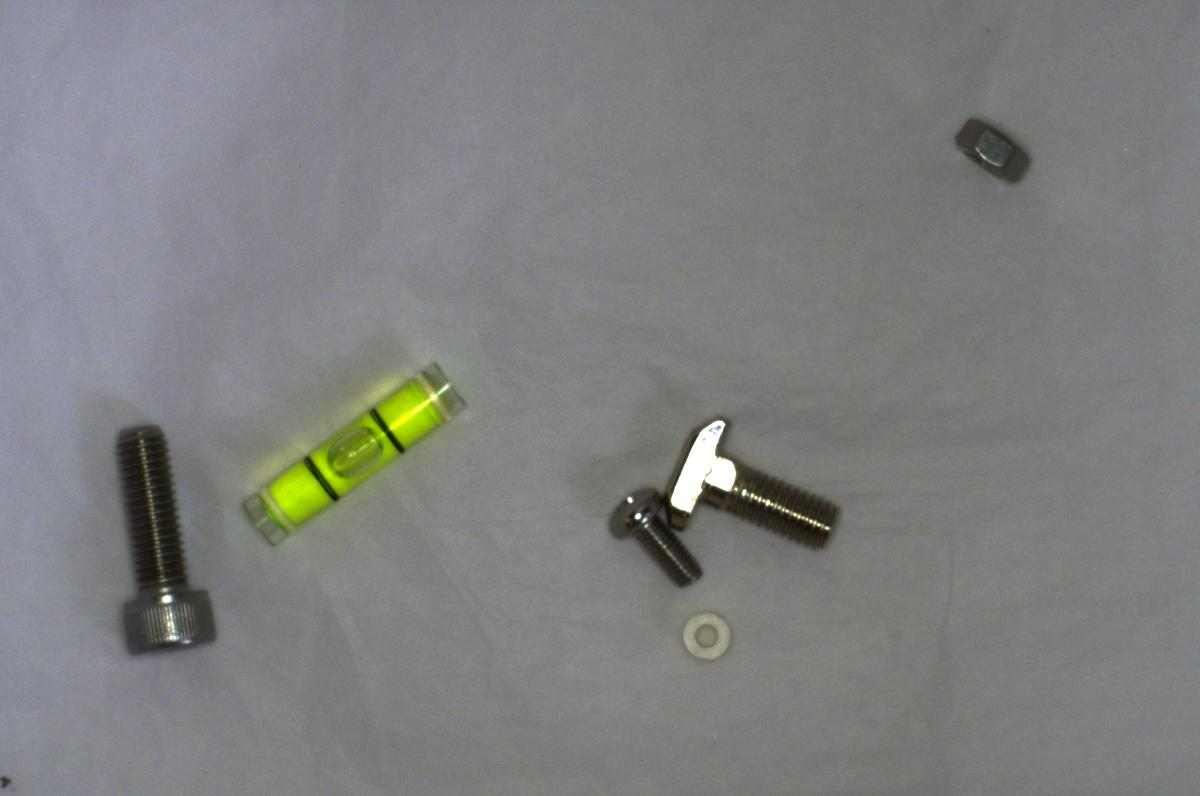Hexagon nut: (941, 110, 1038, 189)
Hexagon screw: (97, 419, 225, 655)
Horizontal bubble: (232, 361, 470, 550)
Plastic cushion pillar: (678, 602, 734, 667)
Round head screw: (602, 483, 708, 588)
T-shaped screw: (657, 413, 842, 556)
